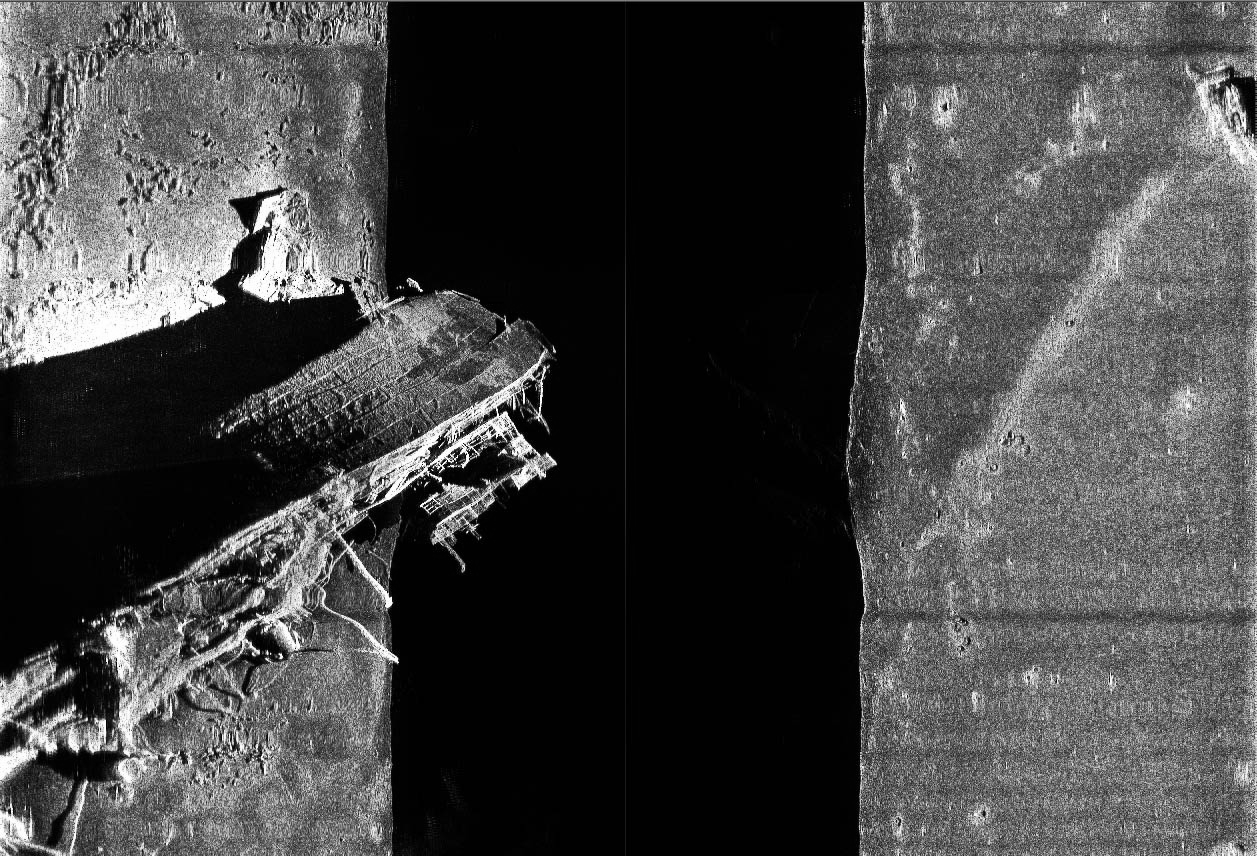ship: (7, 280, 555, 800)
